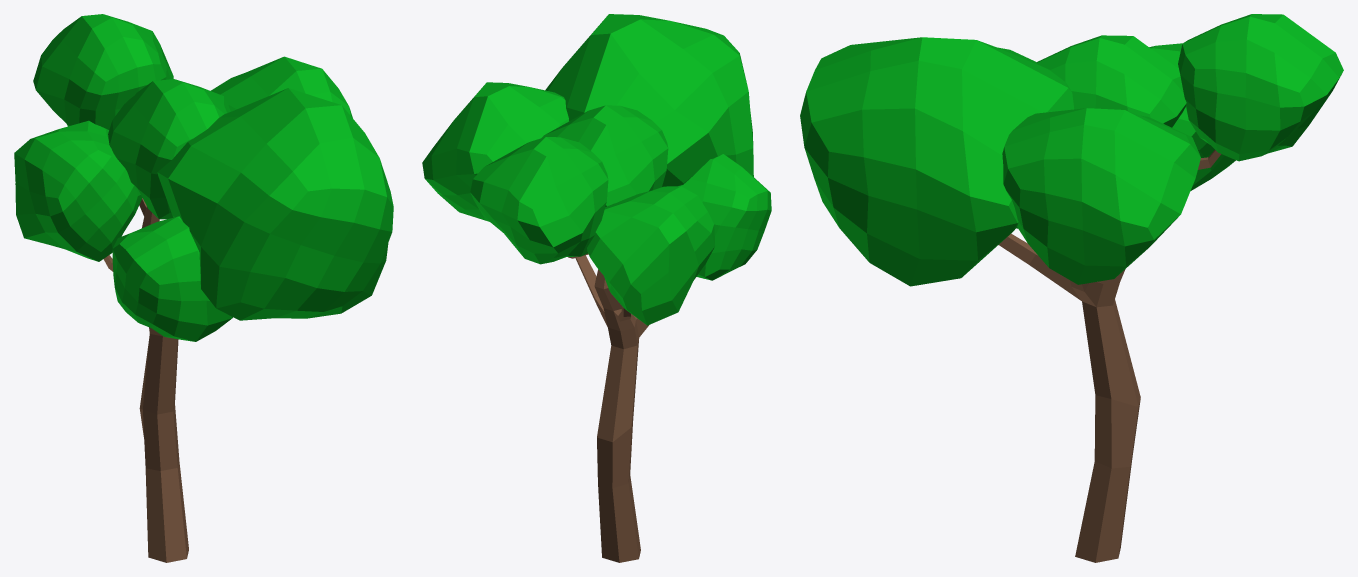
File: Tree.fbx
3 views of the same model, side by side, from view 1: azimuth 30°, elevation 25°; view 2: azimuth 150°, elevation 25°; view 3: azimuth 270°, elevation 25° (orthographic). The views are drawn at different scales.
Visible parts, largest first — view 1: Tree; view 2: Tree; view 3: Tree.
Part boxes in pixels (x1=…): Tree: x1=14, y1=14, x2=393, y2=562; Tree: x1=422, y1=14, x2=771, y2=562; Tree: x1=800, y1=14, x2=1343, y2=562.
Bounding box in the file's own units: 0.163 × 0.2562 × 0.2303.
